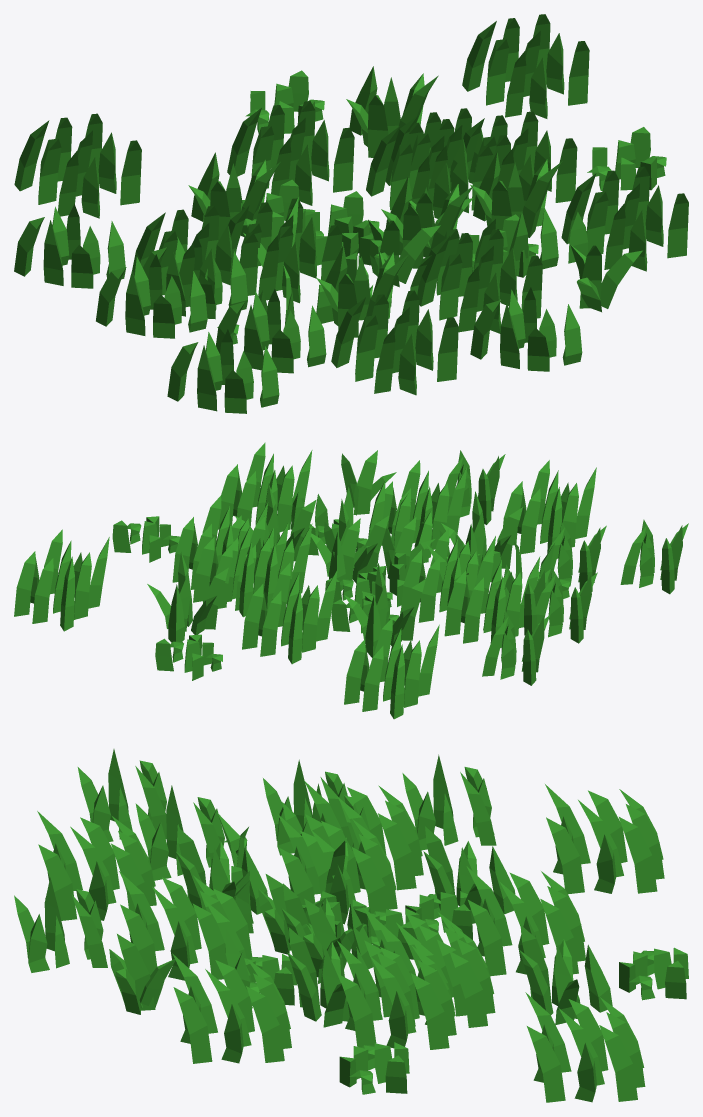
File: GrassPack.fbx
3 renders of one model, top to bottom at view 1: azimuth 30°, elevation 25°; view 2: azimuth 150°, elevation 25°; view 3: azimuth 270°, elevation 25°, orthographic. The views are drawn at different scales.
Visible parts, largest first — view 1: GrassBunch7.003, GrassBunch7.007, GrassBunch7.005, GrassBunch7.010, GrassBunch7.006, GrassBunch7.002, GrassBunch7.004, GrassBunch1.005, GrassBunch1.003, GrassBunch1.001, GrassBunch1.004, GrassBunch7.001 (+23 smaller); view 2: GrassBunch7.007, GrassBunch7.006, GrassBunch7.005, GrassBunch7.004, GrassBunch7.003, GrassBunch7.010, GrassBunch7, GrassBunch7.002, GrassBunch7.001, GrassBunch4.004, GrassBunch7.008, GrassBunch4.003 (+22 smaller); view 3: GrassBunch7.007, GrassBunch7.005, GrassBunch7.010, GrassBunch7.009, GrassBunch7.003, GrassBunch7.006, GrassBunch7.002, GrassBunch7.001, GrassBunch7.004, GrassBunch7, GrassBunch4.004, GrassBunch1.003 (+21 smaller).
Part boxes in pixels (x1,y1,x2,y2): GrassBunch7.003: (331, 290, 458, 395); GrassBunch7.007: (462, 14, 589, 118); GrassBunch7.005: (14, 113, 141, 218); GrassBunch7.010: (561, 166, 688, 271); GrassBunch7.006: (227, 101, 354, 205); GrassBunch7.002: (417, 229, 542, 333); GrassBunch7.004: (132, 205, 258, 310); GrassBunch1.005: (167, 329, 279, 413); GrassBunch1.003: (470, 287, 582, 371); GrassBunch1.001: (96, 254, 207, 338); GrassBunch1.004: (14, 204, 125, 288); GrassBunch7.001: (228, 198, 342, 303); GrassBunch7.007: (14, 529, 109, 631); GrassBunch7.006: (242, 562, 337, 664); GrassBunch7.005: (344, 618, 439, 719); GrassBunch7.004: (444, 549, 540, 647); GrassBunch7.003: (503, 460, 596, 558); GrassBunch7.010: (218, 442, 312, 532); GrassBunch7: (193, 515, 288, 617); GrassBunch7.002: (381, 460, 466, 557); GrassBunch7.001: (401, 528, 495, 622); GrassBunch4.004: (147, 551, 228, 642); GrassBunch7.008: (227, 516, 312, 613); GrassBunch4.003: (344, 563, 425, 657); GrassBunch7.007: (525, 992, 645, 1102); GrassBunch7.005: (545, 784, 664, 894); GrassBunch7.010: (172, 953, 291, 1063); GrassBunch7.009: (337, 940, 456, 1049); GrassBunch7.003: (37, 811, 156, 920); GrassBunch7.006: (466, 866, 585, 976); GrassBunch7.002: (119, 871, 228, 980); GrassBunch7.001: (278, 814, 397, 924); GrassBunch7.004: (304, 780, 423, 890); GrassBunch7: (376, 919, 495, 1027); GrassBunch4.004: (519, 925, 612, 1024); GrassBunch1.003: (14, 877, 107, 972).
Size of what is drawn, in the model's own units: 520 by 65.35 by 506.
